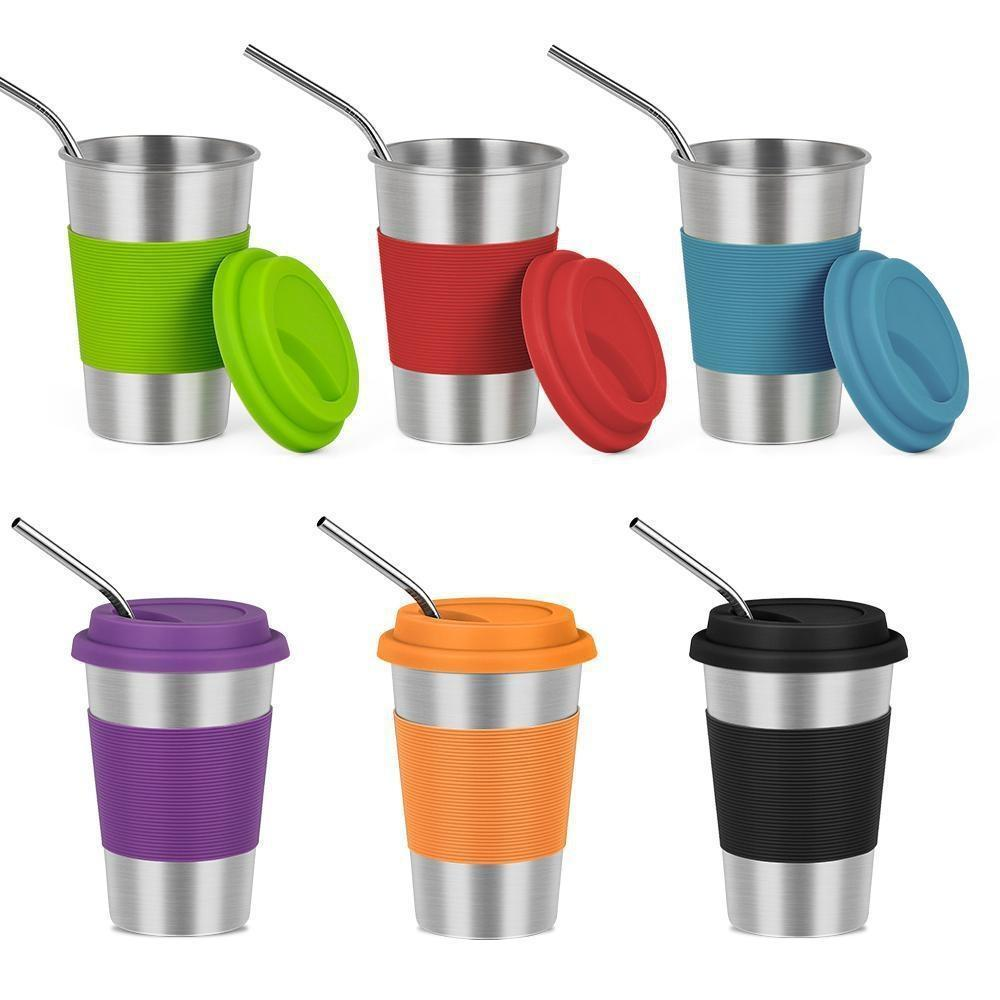cup-disposable: (688, 592, 912, 942), (377, 591, 598, 945), (72, 594, 291, 941), (54, 126, 263, 448), (666, 128, 874, 449), (365, 134, 571, 446)
